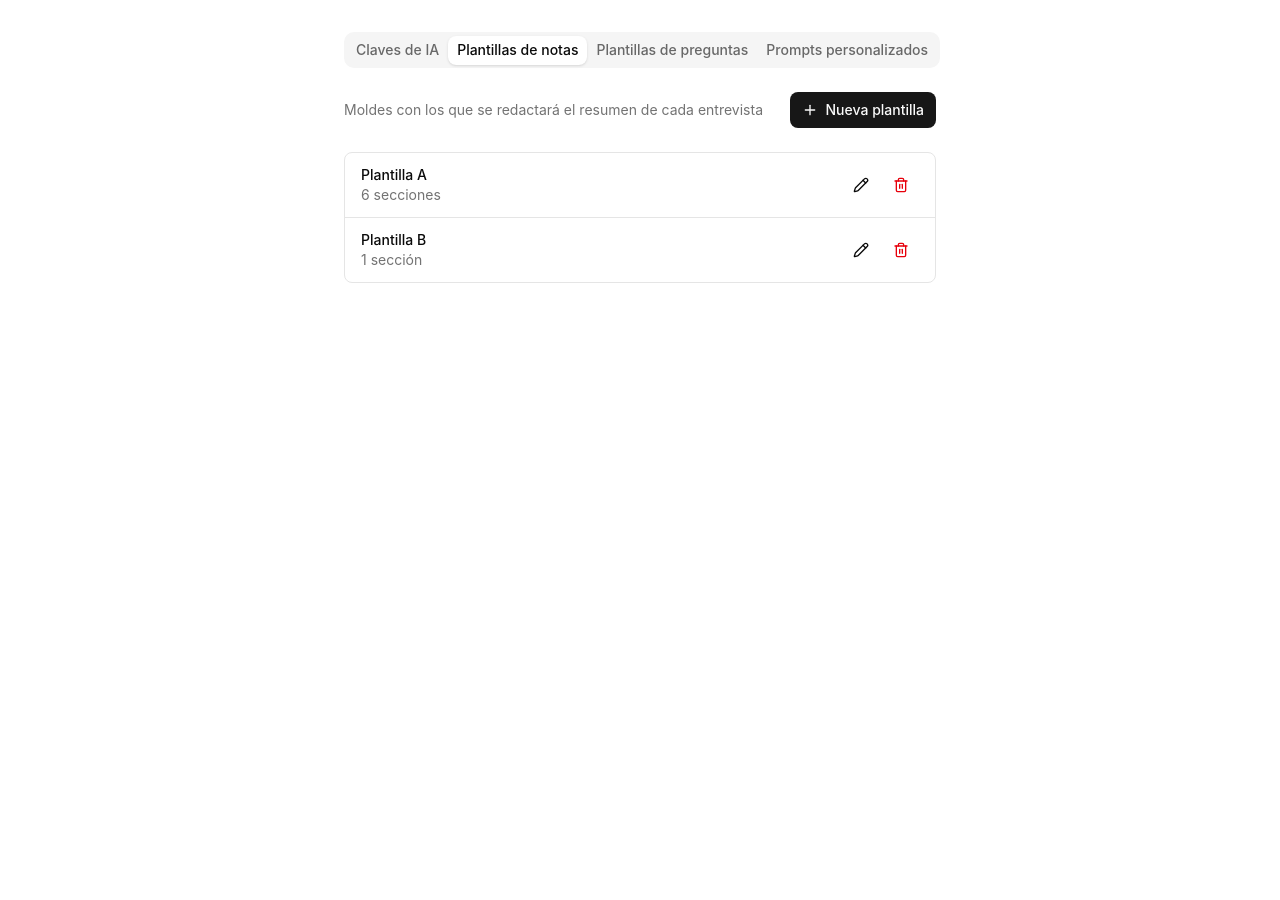
Test case: NoteTemplatesTab (listado) › deleting a template › removes the row and shows the "Plantilla eliminada" toast after confirming the deletion
Expected: the text "Plantilla A" is shown, top-left (361, 166), bottom-right (427, 183)
Step 1. Click the button named "Eliminar plantilla" in the row of "Plantilla A" → (901, 185), box top-left (883, 167), bottom-right (919, 203)
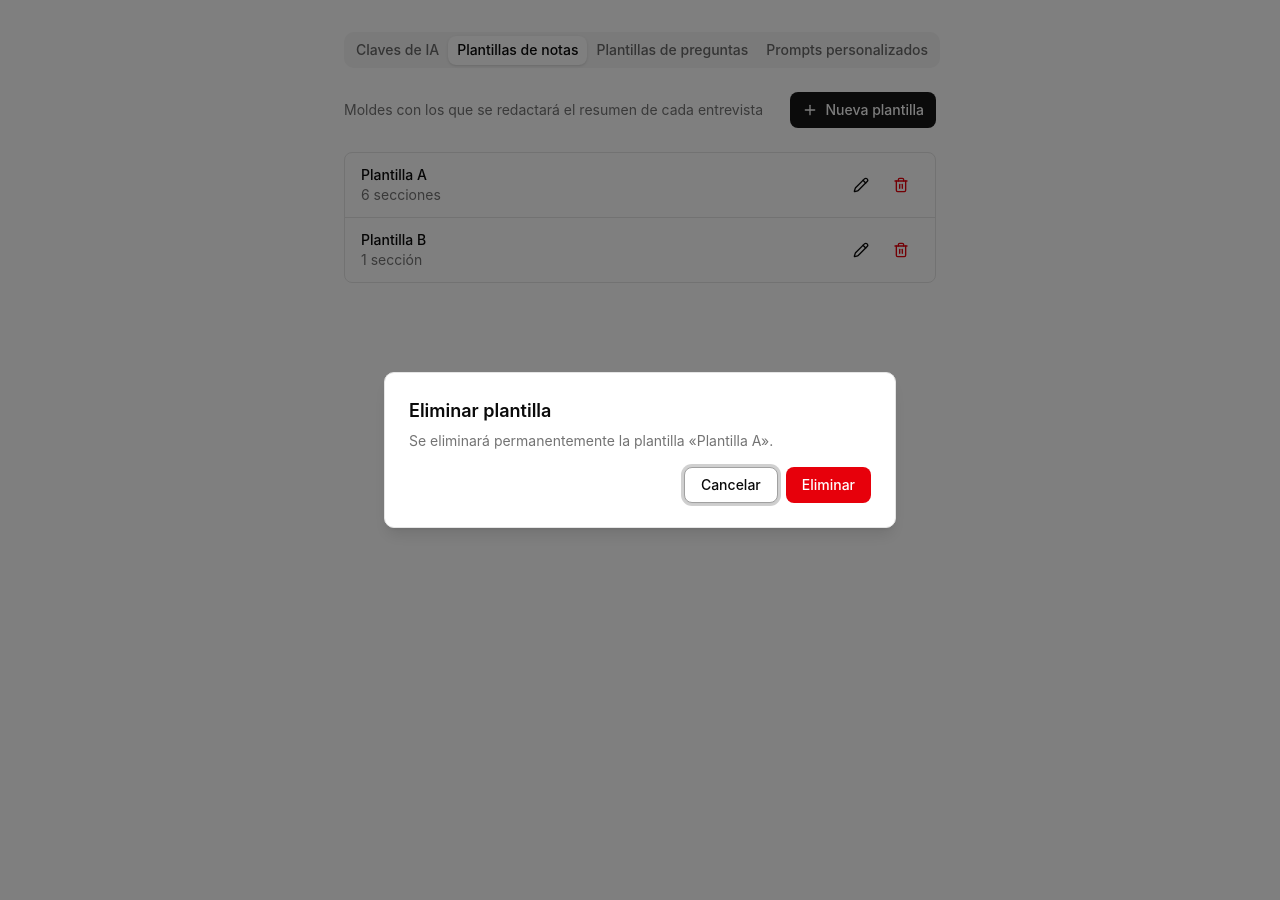
Step 2. Click the button "Eliminar" → (828, 485), box top-left (786, 467), bottom-right (871, 503)
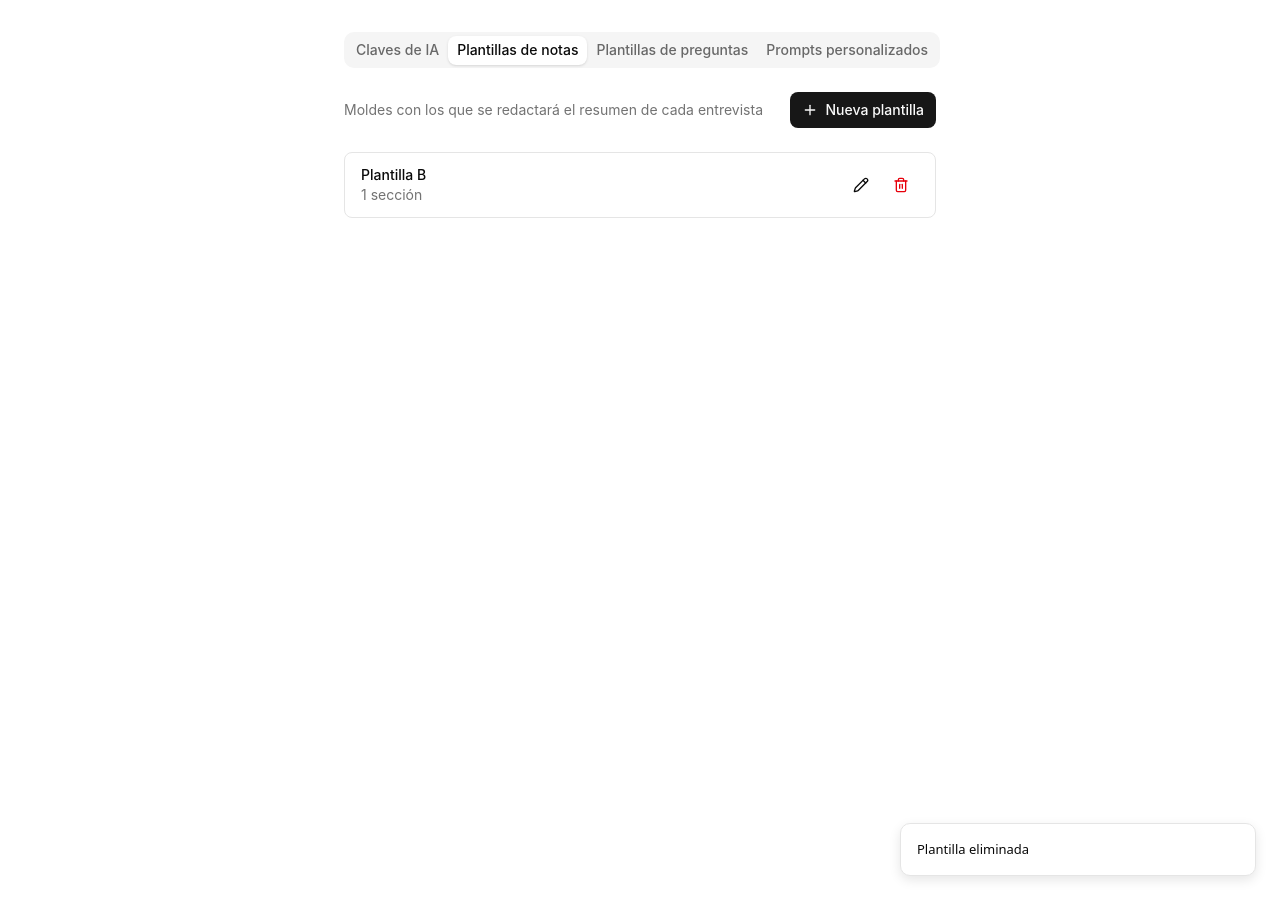
Expected: the text "Plantilla B" is shown, top-left (361, 165), bottom-right (426, 185)
Now the text "Plantilla A" is gone
